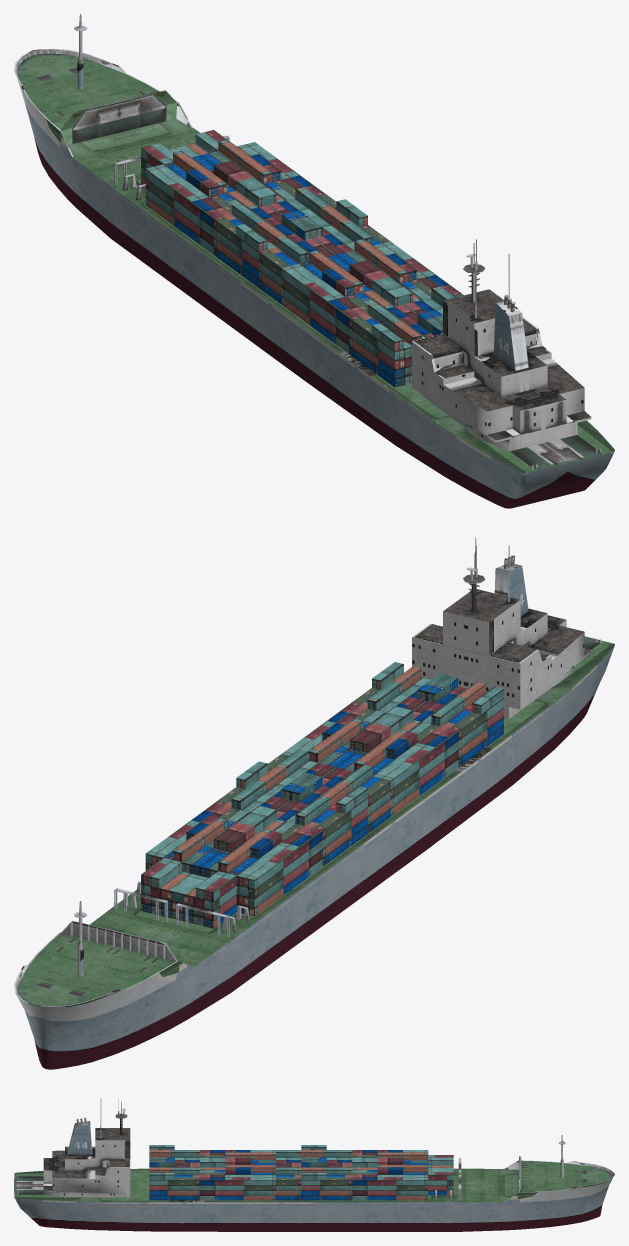
The model's file is ship.fbx.
3 views of the same model, one above another, from view 1: azimuth 30°, elevation 25°; view 2: azimuth 150°, elevation 25°; view 3: azimuth 270°, elevation 25° (orthographic). The views are drawn at different scales.
Visible parts, largest first — view 1: Cargo_Ship; view 2: Cargo_Ship; view 3: Cargo_Ship.
Boxes of the visible parts, <box> form: Cargo_Ship: <box>14,14,614,508</box>; Cargo_Ship: <box>14,537,614,1069</box>; Cargo_Ship: <box>14,1098,614,1231</box>.
Bounding box in the file's own units: 51.93 × 83.89 × 392.
1 material, 1 textured.
